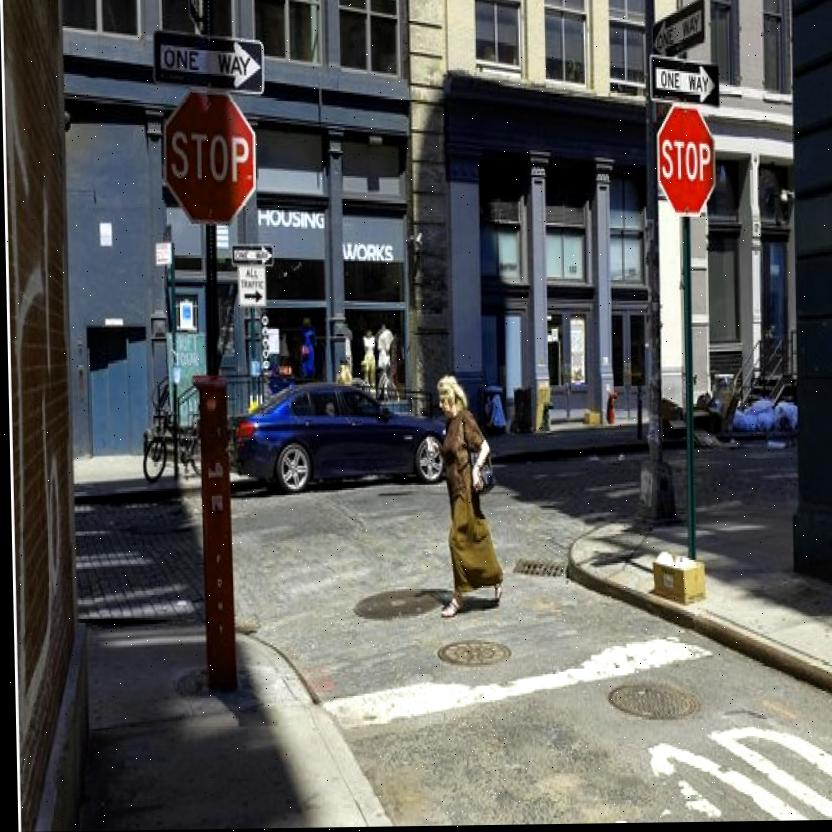Pole: (680, 218, 696, 556), (203, 228, 218, 376)
Sign: (163, 89, 258, 228), (654, 102, 716, 217)
